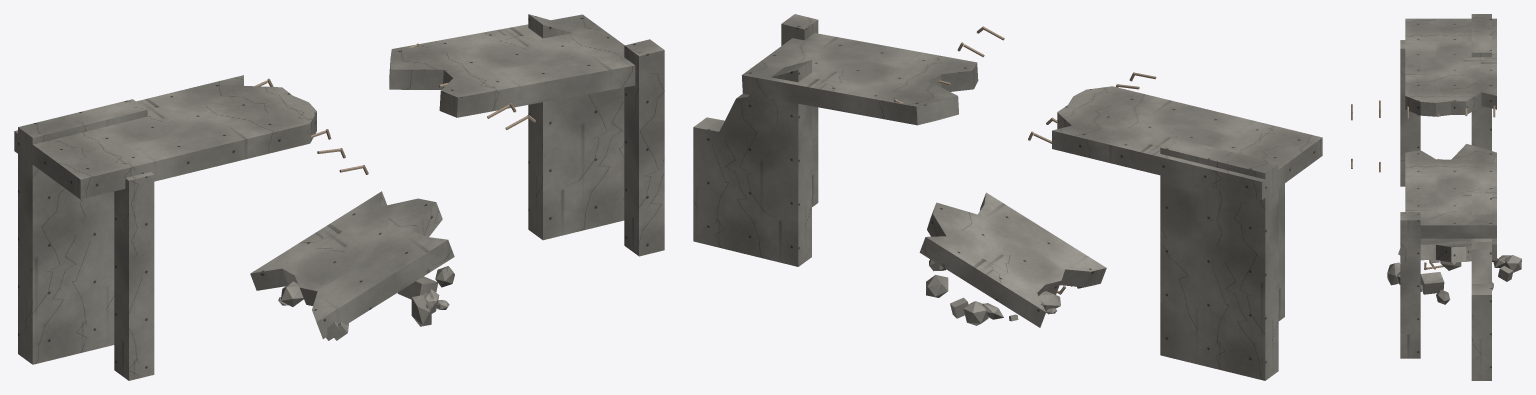
The model's file is Pedestrian_Bridge.fbx.
3 views of the same model, side by side, from view 1: azimuth 30°, elevation 25°; view 2: azimuth 150°, elevation 25°; view 3: azimuth 270°, elevation 25° (orthographic). The views are drawn at different scales.
Parts seen in each view (by area): view 1: Pedestrian_Bridge; view 2: Pedestrian_Bridge; view 3: Pedestrian_Bridge.
Boxes of the visible parts, x1,y1,x2,y2 form: Pedestrian_Bridge: [14, 14, 664, 380]; Pedestrian_Bridge: [693, 14, 1322, 380]; Pedestrian_Bridge: [1351, 14, 1521, 380].
Bounding box in the file's own units: 9.8 × 3.46 × 3.36.
2 materials, 1 textured.
